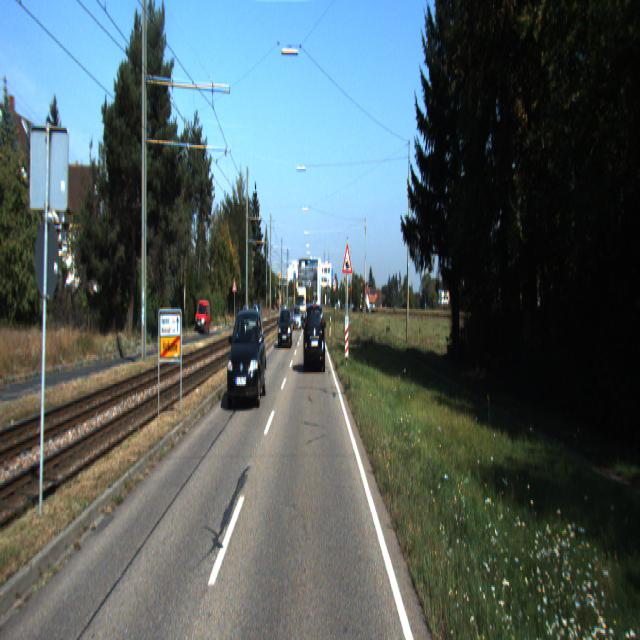Car: (228, 306, 268, 410), (304, 301, 326, 373), (277, 306, 293, 349), (196, 298, 210, 334), (293, 306, 301, 332)
